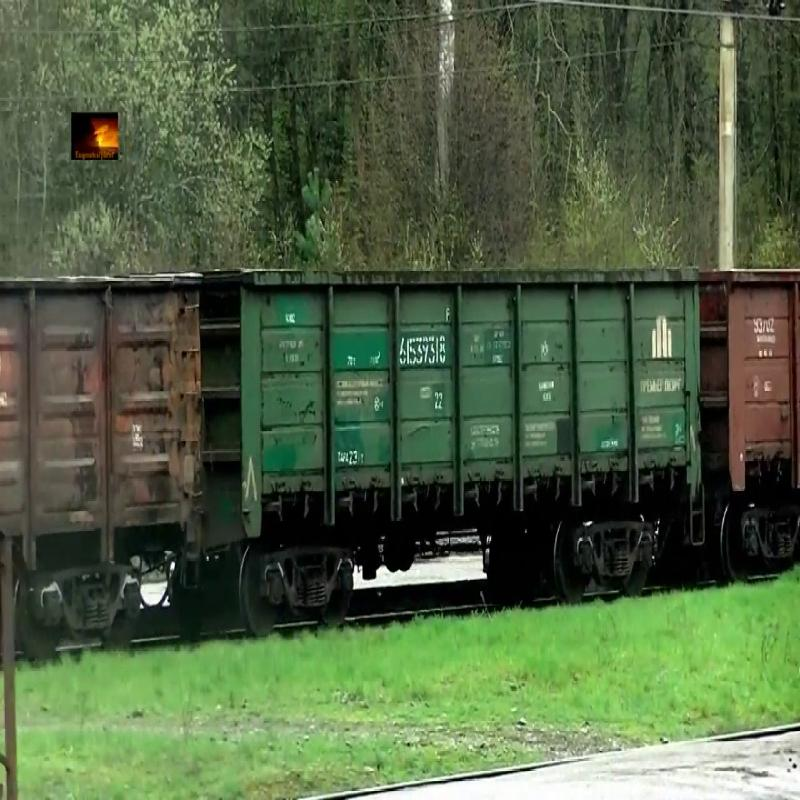train: (206, 266, 702, 540), (1, 273, 204, 572), (703, 265, 800, 490)
